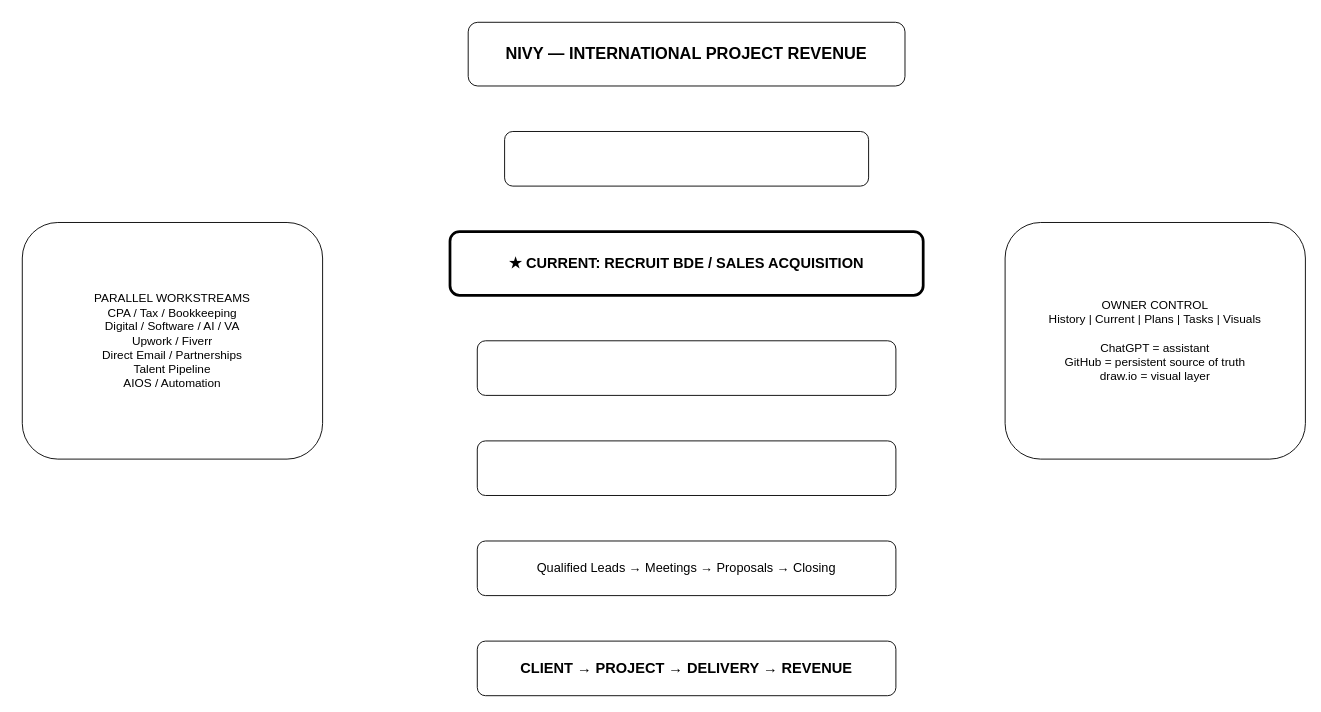
This 1321x712 diagram has some shape labels left out. The centre of each missing label's shape, as x and y in pixels:
CLIENT ACQUISITION: point 686,158
Onboard → Train → Lead Sources → Outreach: point 686,467
Screen → Interview → Paid Test → Select: point 686,367
